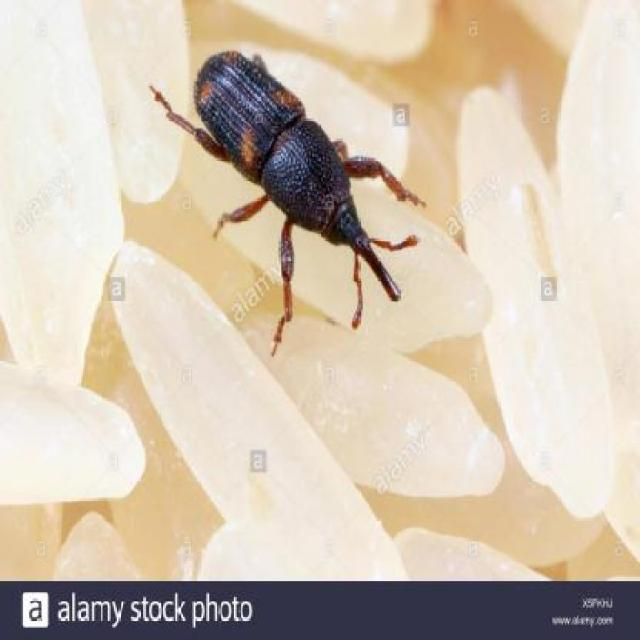rice-bug: (189, 49, 403, 309)
